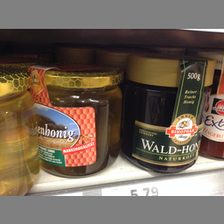honey: (126, 54, 215, 171), (28, 66, 121, 173)
